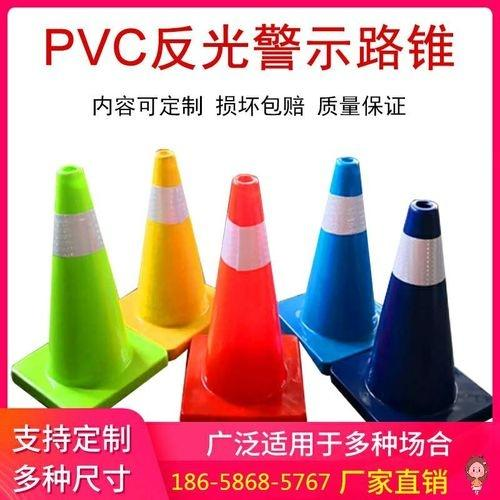cone_barrel: (25, 170, 153, 396), (183, 181, 305, 418), (353, 202, 470, 412), (290, 163, 379, 360), (125, 150, 210, 340)
